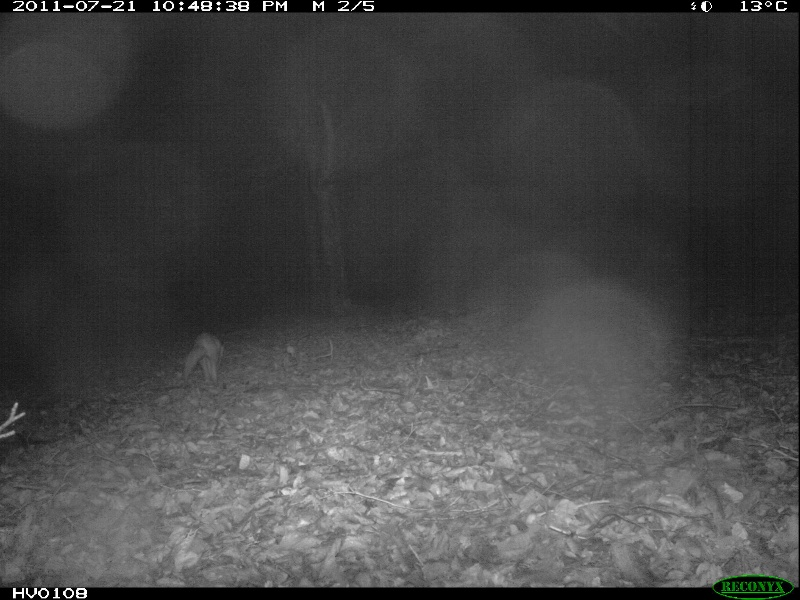fox: (180, 330, 224, 390)
